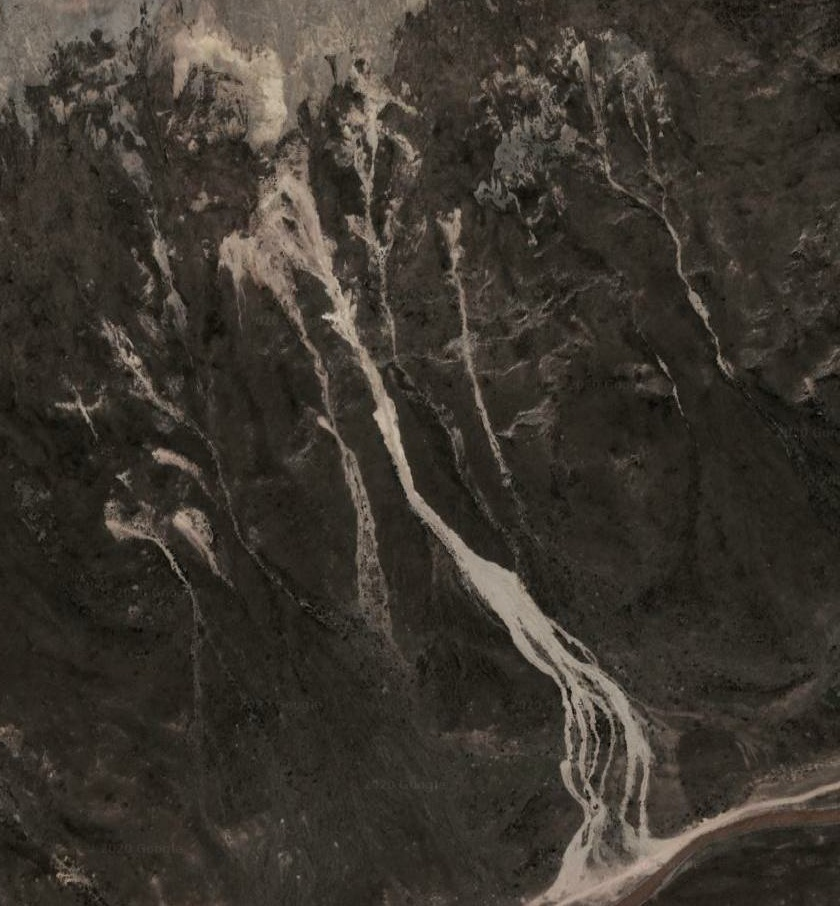slope: (364, 364, 585, 640), (220, 148, 359, 374), (168, 13, 301, 156)
